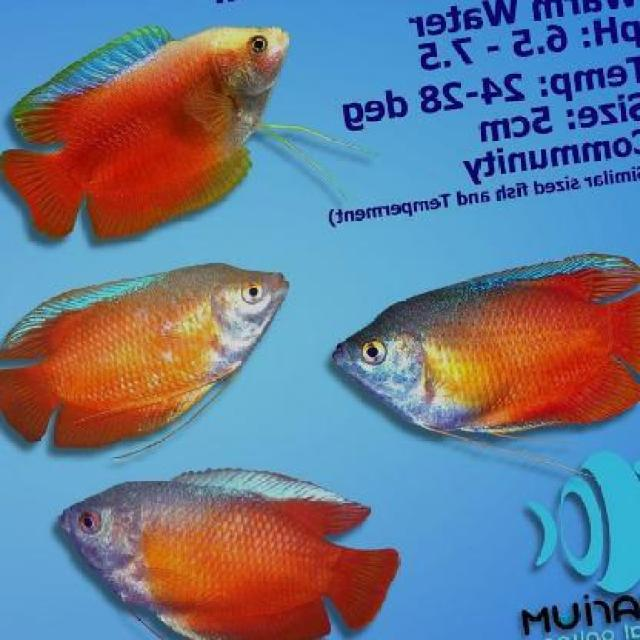Gourami: (2, 16, 300, 250), (58, 457, 400, 638), (326, 246, 639, 443), (1, 257, 294, 454)
